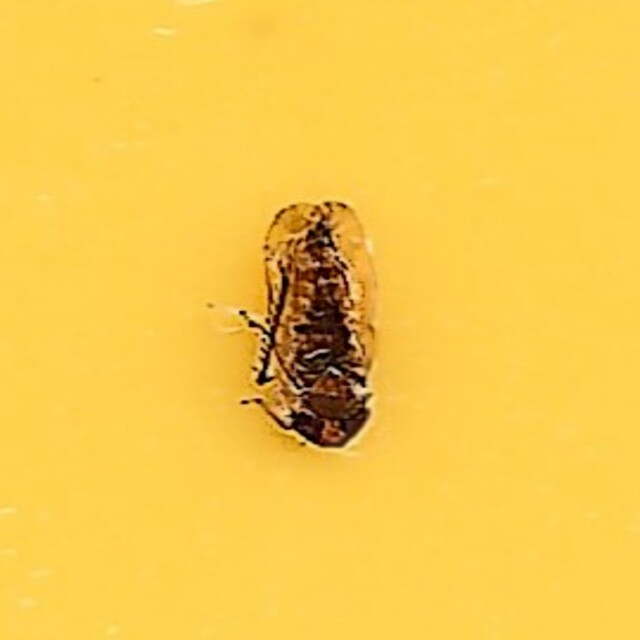Hemiptera: (237, 183, 403, 457)
